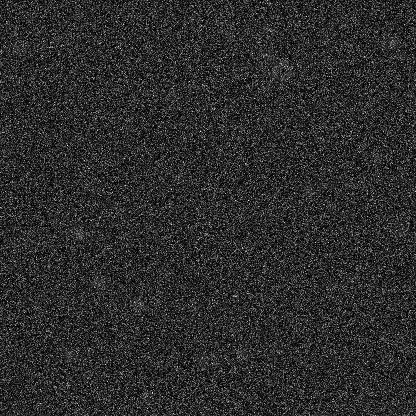Ring: (269, 58, 293, 82)
Spot: (165, 88, 181, 104), (174, 170, 190, 186), (234, 344, 250, 360), (130, 295, 146, 311), (19, 229, 35, 245), (137, 388, 153, 404), (262, 64, 278, 80), (70, 225, 86, 241), (368, 148, 384, 164), (261, 48, 277, 64), (7, 39, 23, 55), (60, 347, 76, 363), (220, 26, 236, 42), (90, 273, 106, 289), (384, 33, 400, 49), (301, 182, 317, 198), (195, 350, 211, 366), (160, 267, 176, 283), (391, 222, 407, 238), (259, 20, 275, 36)
